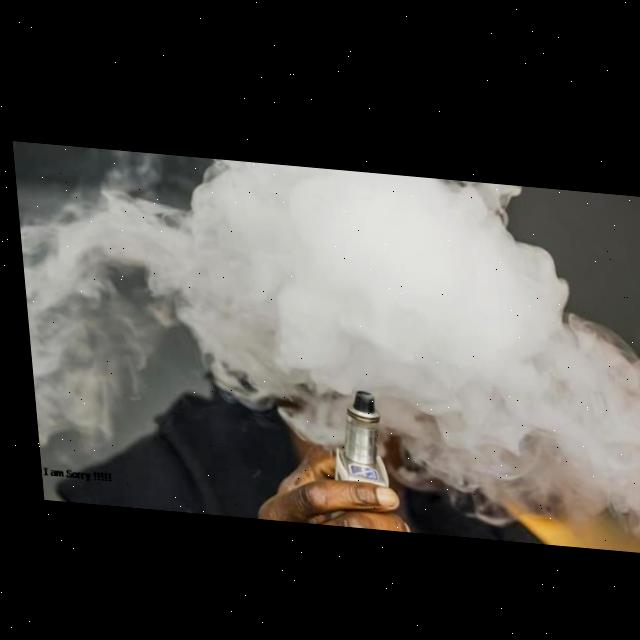vape: (319, 380, 382, 481)
